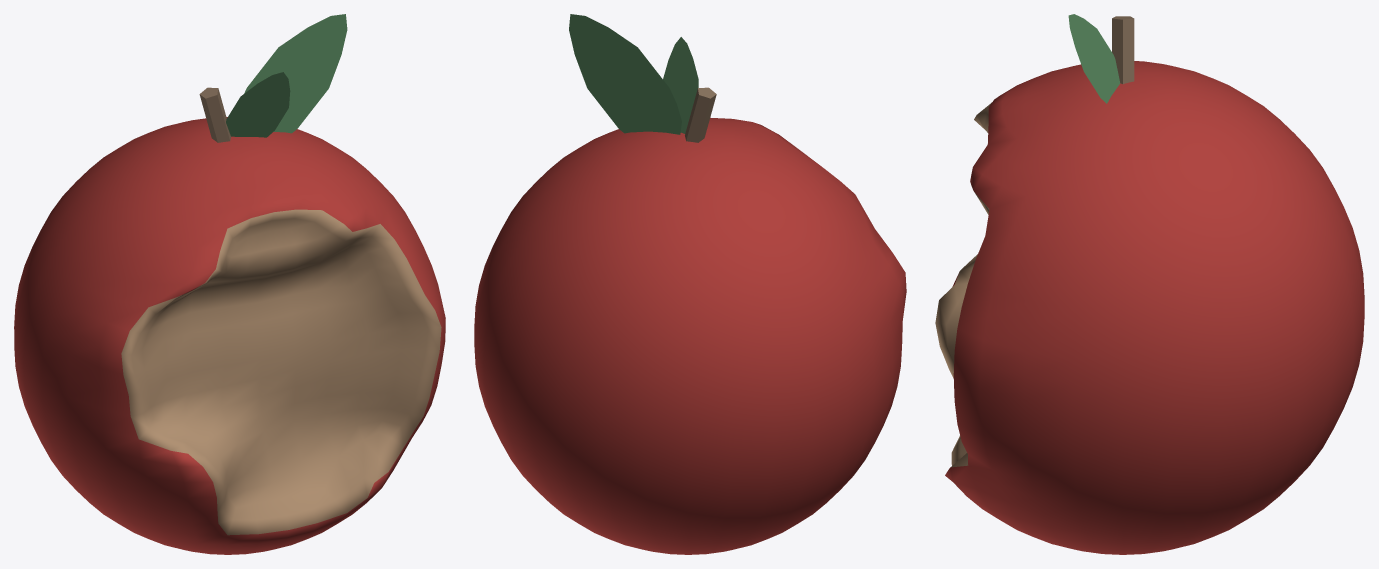
The model's file is AppleBite.fbx.
3 renders of one model, left to right at view 1: azimuth 30°, elevation 25°; view 2: azimuth 150°, elevation 25°; view 3: azimuth 270°, elevation 25°, orthographic. The views are drawn at different scales.
Visible parts, largest first — view 1: BitApple, pPlane1, pPlane2, pCylinder4; view 2: BitApple, pPlane1, pPlane2, pCylinder4; view 3: BitApple, pPlane2, pCylinder4.
Part boxes in pixels (x1,y1,x2,y2): BitApple: [14, 117, 445, 554]; pPlane1: [244, 14, 347, 133]; pPlane2: [226, 72, 290, 137]; pCylinder4: [199, 87, 230, 142]; BitApple: [474, 117, 906, 554]; pPlane1: [569, 14, 681, 134]; pPlane2: [663, 37, 698, 133]; pCylinder4: [685, 87, 716, 142]; BitApple: [935, 61, 1364, 554]; pPlane2: [1068, 14, 1120, 103]; pCylinder4: [1112, 16, 1134, 84].
Bounding box in the file's own units: 0.4244 × 0.5387 × 0.375.
